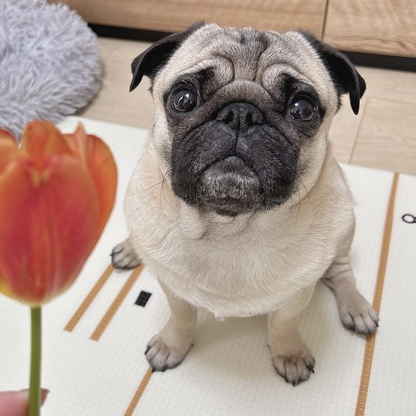Pug: (107, 17, 382, 388)
